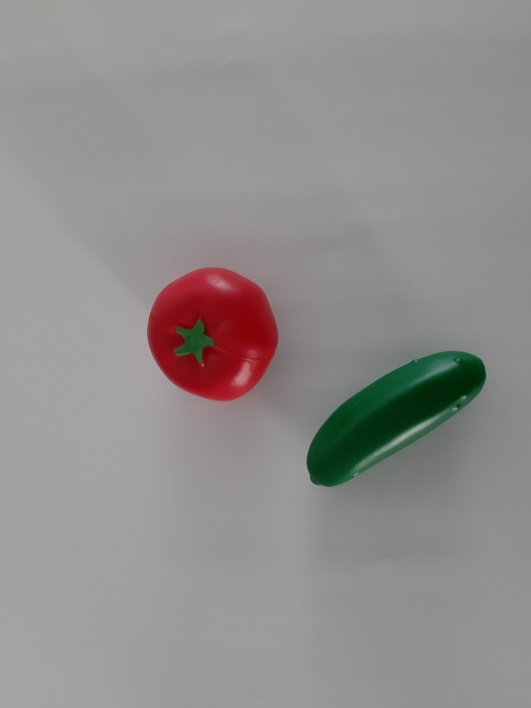cucumber: (296, 338, 497, 496)
tomato: (133, 256, 288, 413)
